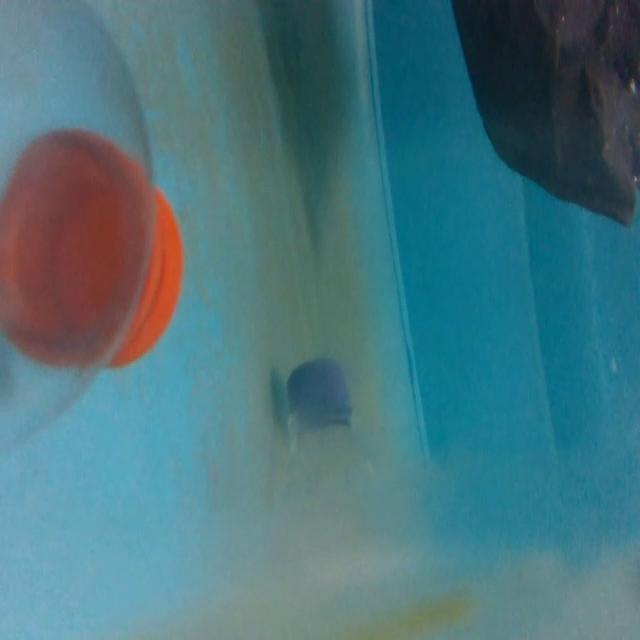plastic bags: (449, 0, 640, 233)
